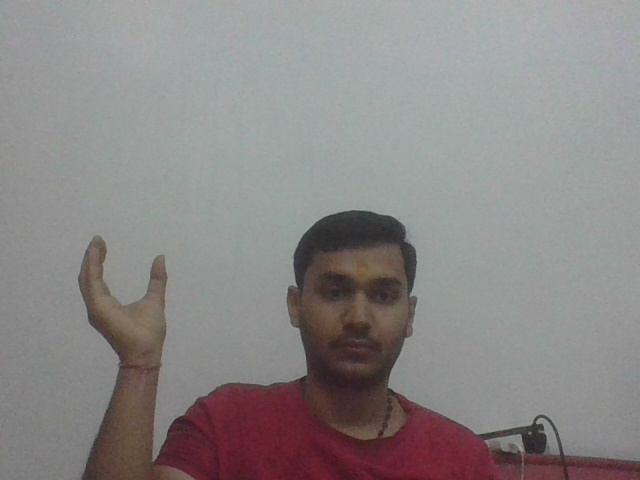U: (76, 233, 177, 357)
